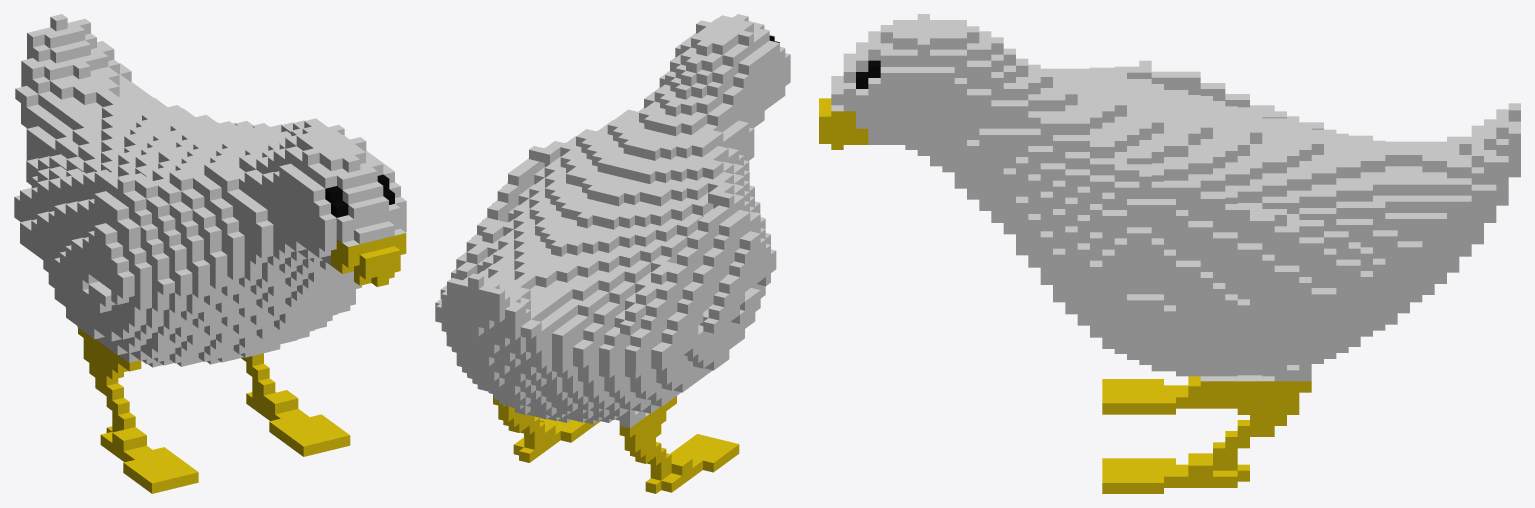
File: poyo.fbx
3 renders of one model, left to right at view 1: azimuth 30°, elevation 25°; view 2: azimuth 150°, elevation 25°; view 3: azimuth 270°, elevation 25°, orthographic. The views are drawn at different scales.
Parts seen in each view (by area): view 1: poyo; view 2: poyo; view 3: poyo.
Boxes of the visible parts, <box> form: poyo: <box>14,14,406,493</box>; poyo: <box>435,14,790,493</box>; poyo: <box>819,14,1520,493</box>.
Size of the model in its own units: 134 by 184 by 284.
